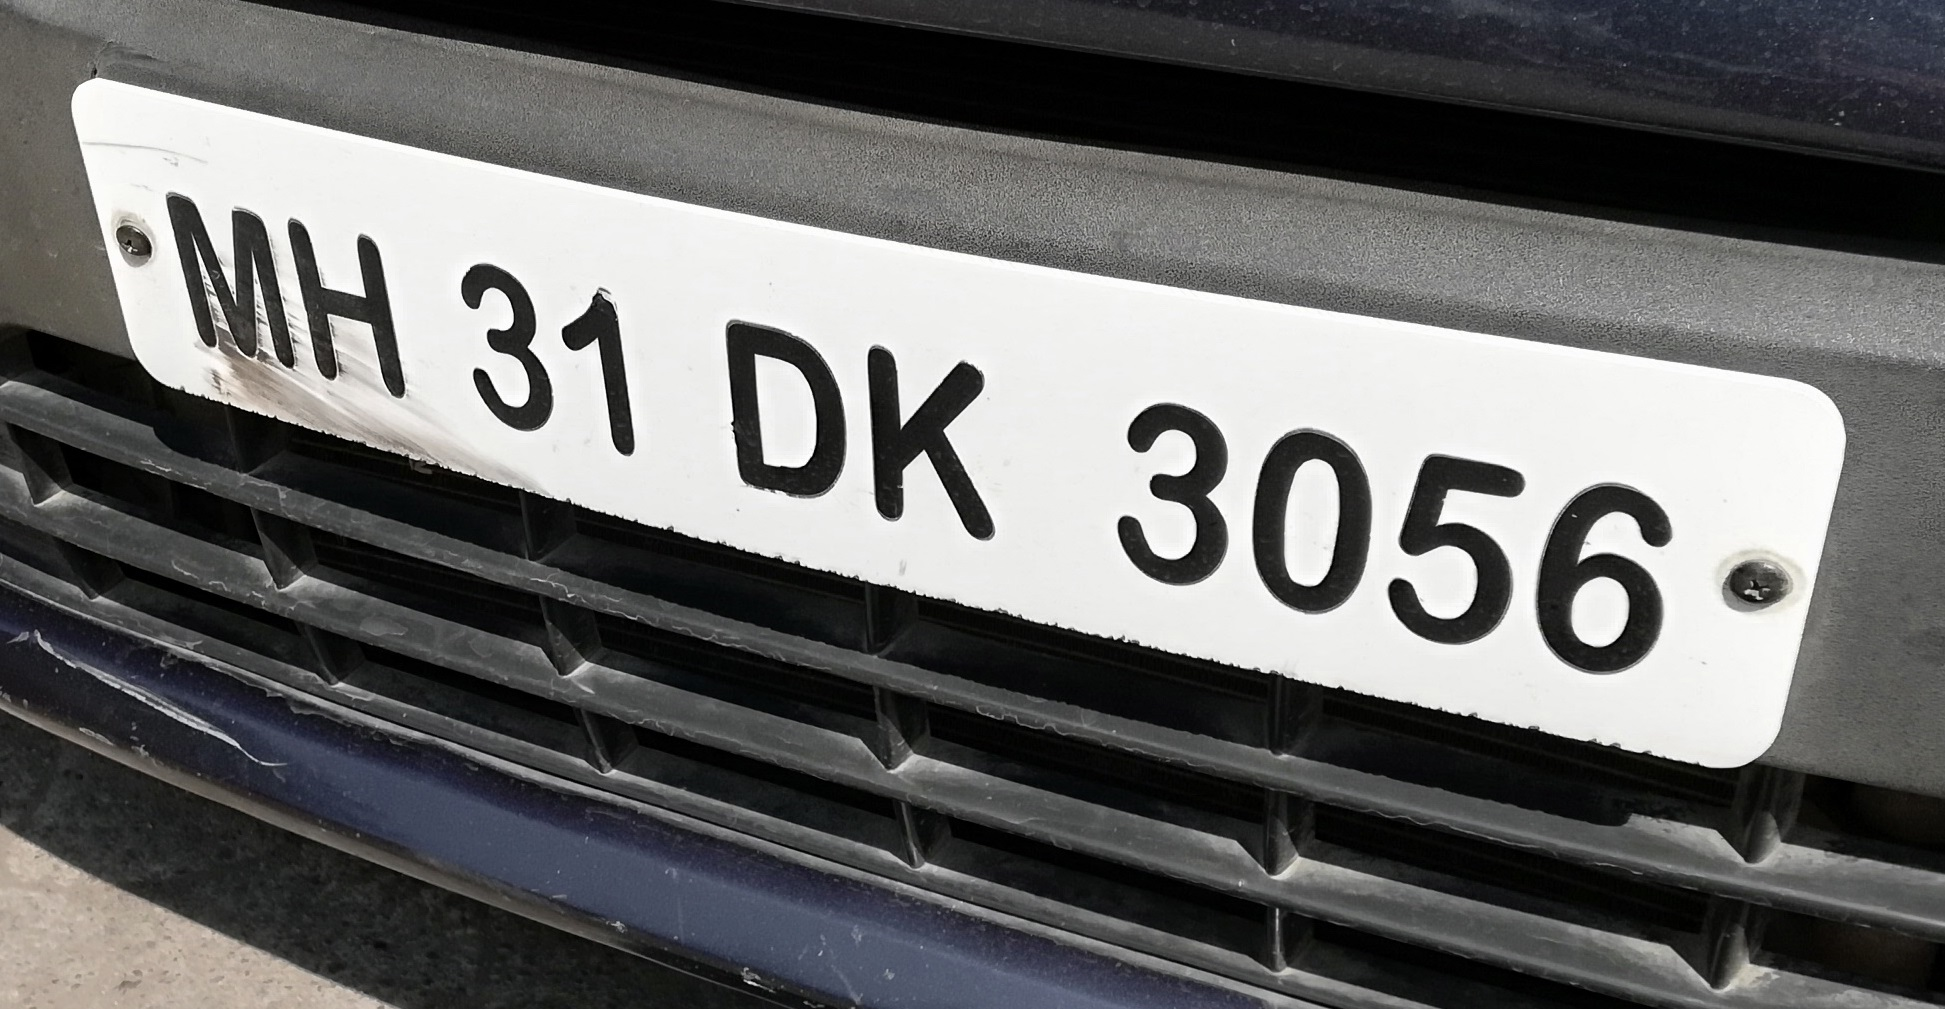numberplate: (56, 68, 1847, 774)
